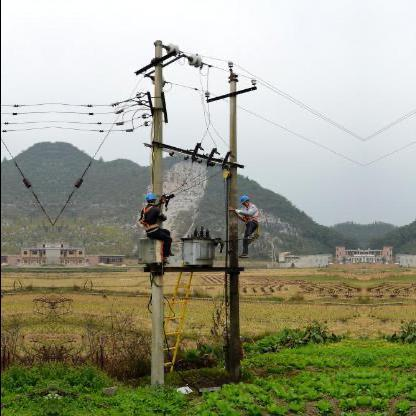Helmet: (236, 192, 254, 208), (140, 190, 156, 204)
